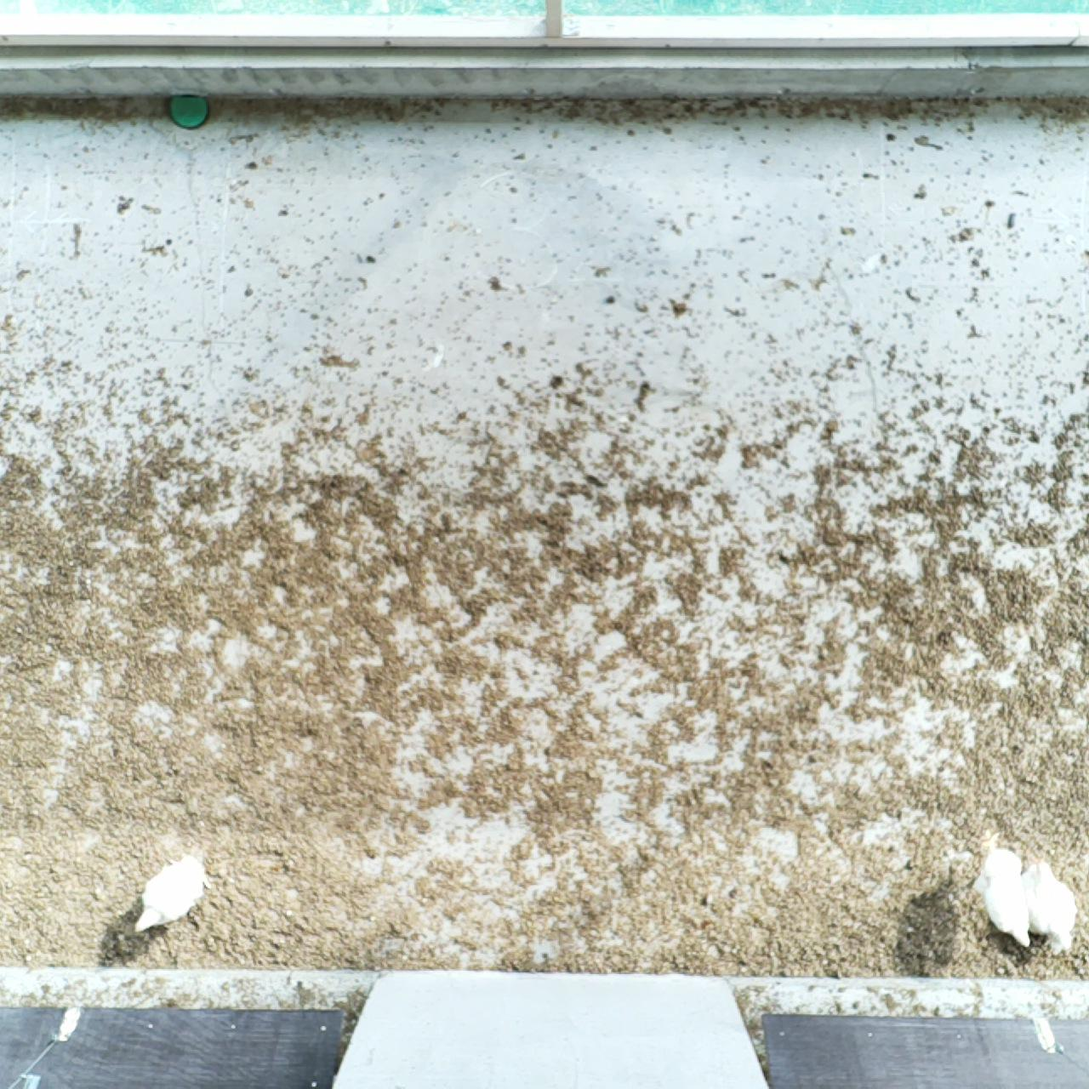chicken: (127, 852, 208, 941), (971, 845, 1034, 949), (1029, 859, 1081, 952)
